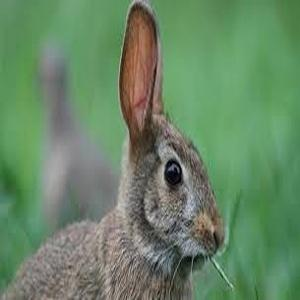rabbit: (0, 2, 224, 300)
